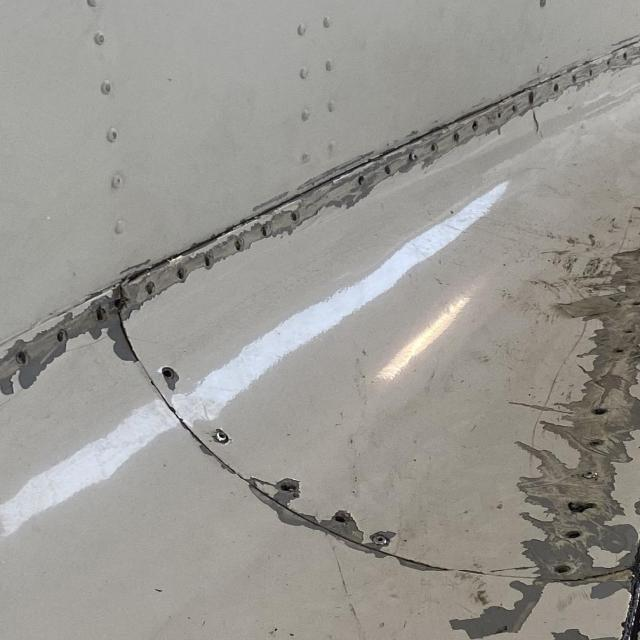Crack: (109, 284, 128, 314)
Missing-head: (559, 525, 589, 545), (92, 305, 113, 326), (50, 325, 72, 345), (276, 480, 299, 499), (329, 511, 354, 528), (159, 367, 178, 385), (282, 210, 301, 226), (553, 564, 574, 578), (257, 222, 274, 237), (611, 346, 632, 355), (592, 406, 609, 417), (620, 324, 637, 334), (630, 299, 640, 310), (635, 280, 640, 288)
Paint-off: (450, 587, 540, 640), (103, 322, 140, 364), (550, 630, 617, 640), (163, 369, 180, 395)
Scratch: (0, 22, 640, 433), (491, 182, 640, 597)
